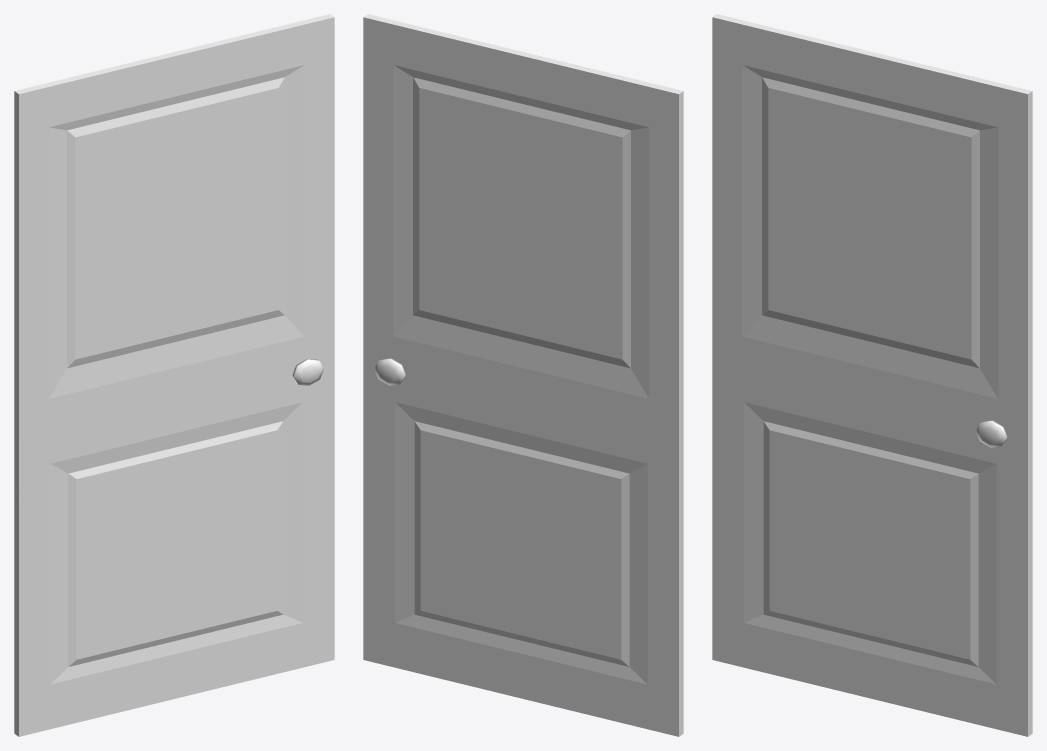
The model's file is puertaCasa.obj.
3 renders of one model, left to right at view 1: azimuth 30°, elevation 25°; view 2: azimuth 150°, elevation 25°; view 3: azimuth 330°, elevation 25°, orthographic.
Parts seen in each view (by area): view 1: polySurface6; view 2: polySurface6; view 3: polySurface6.
Boxes of the visible parts, x1=… form: polySurface6: x1=14, y1=14, x2=334, y2=736; polySurface6: x1=363, y1=14, x2=683, y2=736; polySurface6: x1=712, y1=14, x2=1032, y2=736.
Bounding box in the file's own units: 0.9353 × 1.82 × 0.1052.
Materials: 2 (2 with a texture image).
